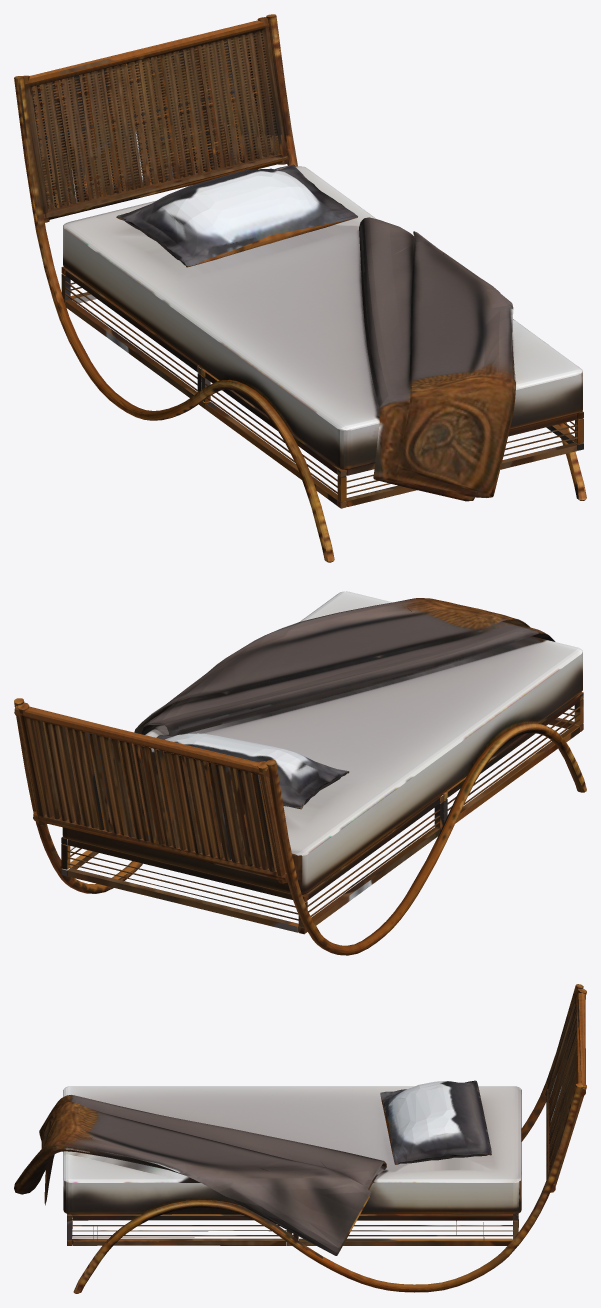
Rendered from edited_mesh.glb.
3 views of the same model, one above another, from view 1: azimuth 30°, elevation 25°; view 2: azimuth 150°, elevation 25°; view 3: azimuth 270°, elevation 25° (orthographic). The views are drawn at different scales.
Parts seen in each view (by area): view 1: solid_001_wire; view 2: solid_001_wire; view 3: solid_001_wire.
Boxes of the visible parts, x1,y1,x2,y2 form: solid_001_wire: (14, 14, 586, 562); solid_001_wire: (14, 591, 586, 955); solid_001_wire: (14, 984, 586, 1293).
Size of the model in its own units: 0.976 by 0.8014 by 2.
Materials: 1 (1 with a texture image).
